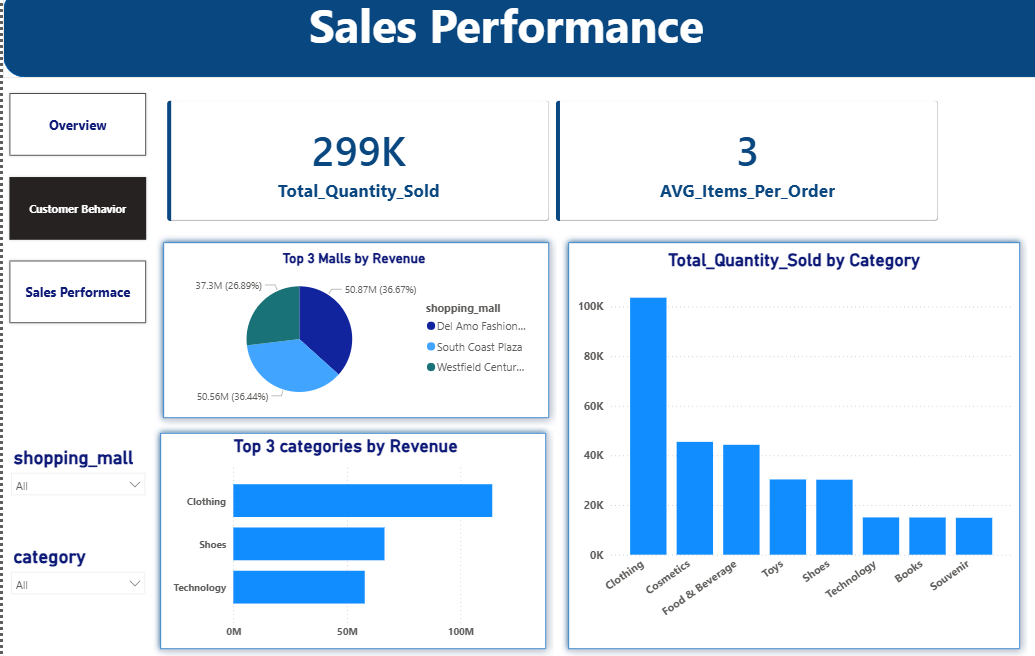

What the dashboard file says about the page in this screenshot:
{"tool":"powerbi","page":{"name":"Sales Performace","canvas":[1280,820],"ordinal":1},"visuals":[{"type":"cardVisual","fields":{"Data":["_Measures.Total_Quantity_Sold","_Measures.AVG_Items_Per_Order"]},"box":[184.4,119.9,982.9,182.6],"z":0},{"type":"shape","box":[686,302.4,573.5,518.2],"z":500},{"type":"columnChart","title":"Total_Quantity_Sold by Category","fields":{"Y":["_Measures.Total_Quantity_Sold"],"Category":["sales_data.category"]},"box":[700.8,320.9,544,470.3],"z":1000},{"type":"shape","box":[0,0,1499.3,108.8],"z":2000},{"type":"textbox","box":[274.8,0,687.9,95.9],"z":3000},{"type":"shape","box":[184.4,536.6,492.4,284],"z":3500},{"type":"clusteredBarChart","title":"Top 3 categories by Revenue","fields":{"Y":["_Measures.Total_Revenue"],"Category":["sales_data.category"]},"box":[202.9,549.5,437.1,258.2],"z":4000},{"type":"shape","box":[188.1,302.4,492.4,234.2],"z":5000},{"type":"pieChart","title":"Top 3 Malls by Revenue","fields":{"Category":["shopping_mall.shopping_mall"],"Y":["_Measures.Total_Revenue"]},"box":[202.9,320.9,457.3,199.2],"z":6000},{"type":"bookmarkNavigator","box":[0,119.9,184.4,300.6],"z":6001},{"type":"slicer","fields":{"Values":["shopping_mall.shopping_mall"]},"box":[0,556.9,184.4,105.1],"z":6002},{"type":"slicer","fields":{"Values":["sales_data.category"]},"box":[0,678.6,184.4,101.4],"z":6003}]}

Visuals, with their boxes in screenshot pixels (x1, y1, x2, y2), scaled from the page's 1280x820 canvas onto the 1035x656 screenshot:
cardVisual - _Measures.Total_Quantity_Sold x _Measures.AVG_Items_Per_Order: pyautogui.locateOnScreen(149, 96, 944, 242)
shape: pyautogui.locateOnScreen(555, 242, 1018, 655)
"Total_Quantity_Sold by Category" columnChart: pyautogui.locateOnScreen(567, 257, 1007, 633)
shape: pyautogui.locateOnScreen(0, 0, 1034, 87)
textbox: pyautogui.locateOnScreen(222, 0, 778, 77)
shape: pyautogui.locateOnScreen(149, 429, 547, 655)
"Top 3 categories by Revenue" clusteredBarChart: pyautogui.locateOnScreen(164, 440, 518, 646)
shape: pyautogui.locateOnScreen(152, 242, 550, 429)
"Top 3 Malls by Revenue" pieChart: pyautogui.locateOnScreen(164, 257, 534, 416)
bookmarkNavigator: pyautogui.locateOnScreen(0, 96, 149, 336)
slicer - shopping_mall.shopping_mall: pyautogui.locateOnScreen(0, 446, 149, 530)
slicer - sales_data.category: pyautogui.locateOnScreen(0, 543, 149, 624)
